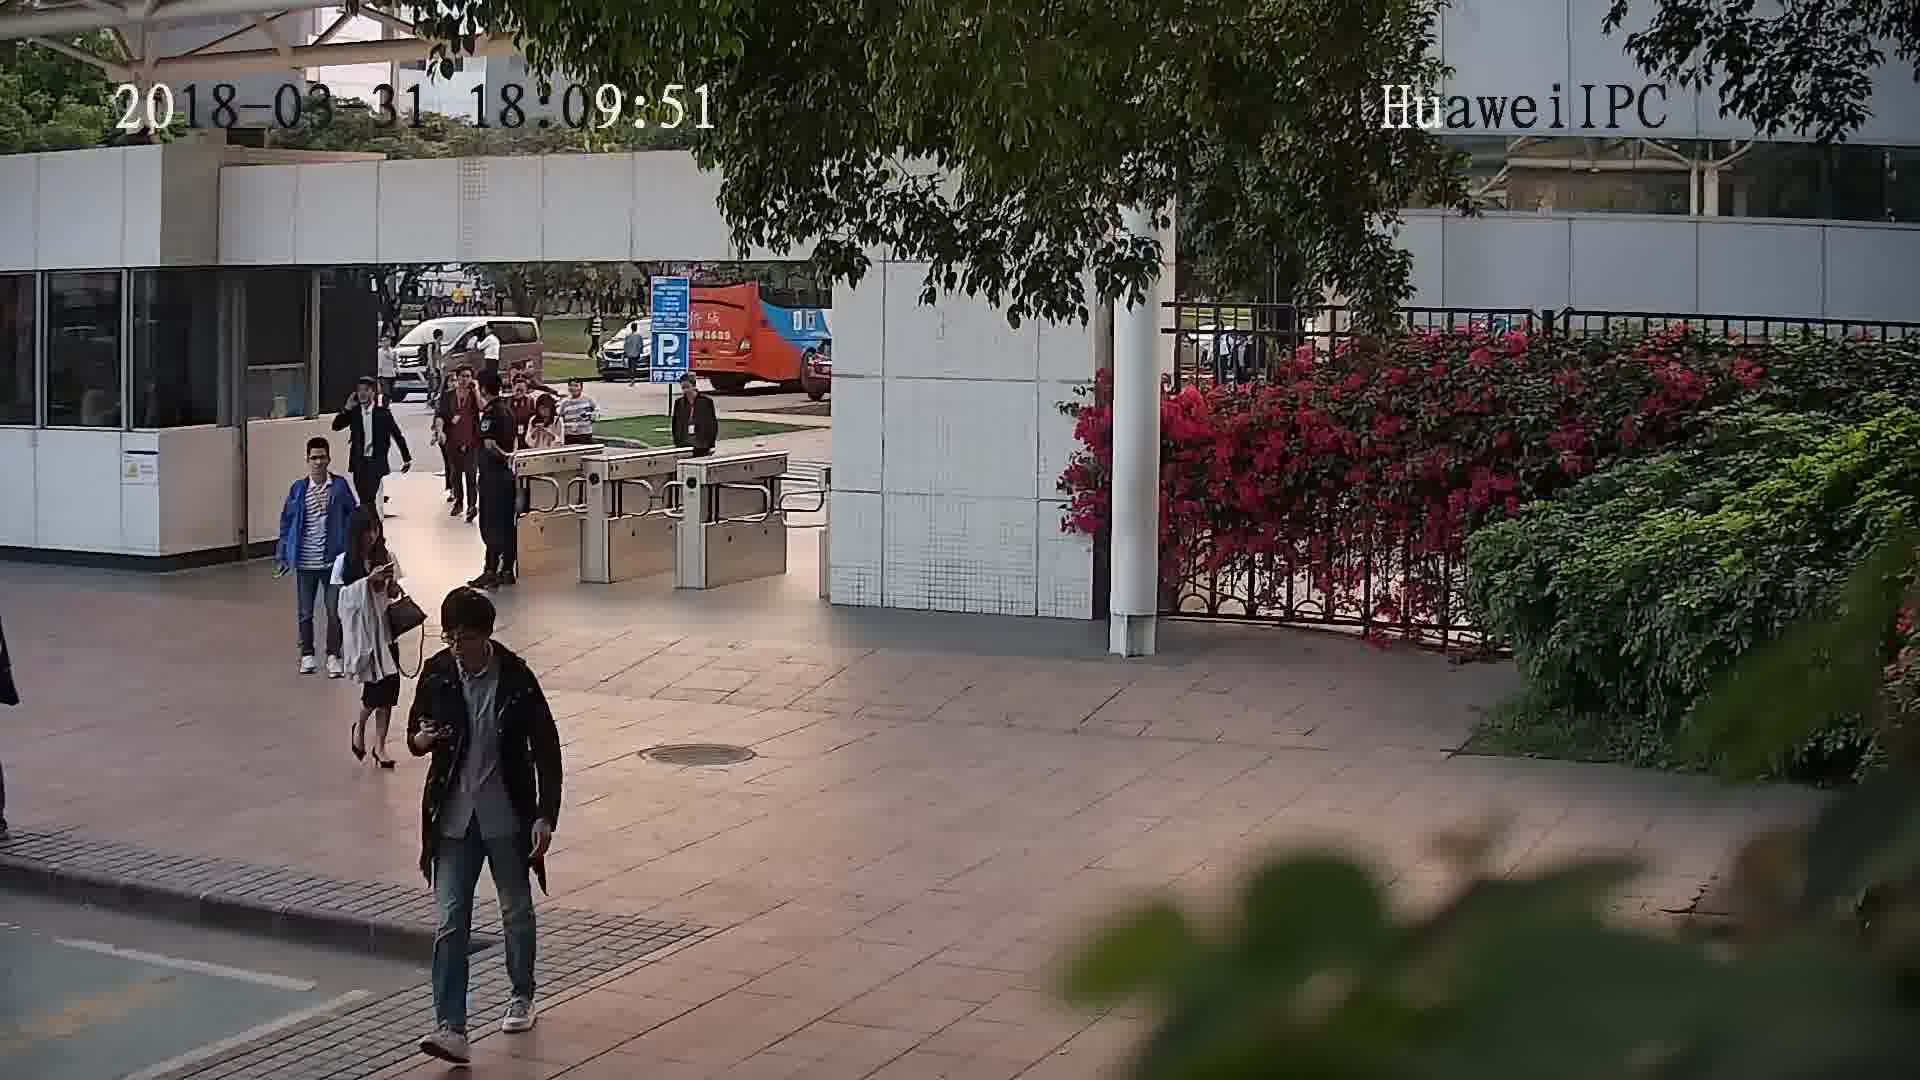face: (304, 442, 337, 487), (448, 625, 484, 661)
person: (416, 582, 542, 705), (286, 434, 349, 499), (334, 506, 392, 569), (338, 375, 395, 425), (473, 369, 515, 426), (442, 360, 481, 410), (518, 388, 560, 433), (672, 371, 714, 411), (556, 374, 590, 408), (418, 330, 447, 356), (479, 320, 503, 348), (376, 332, 398, 358), (624, 321, 649, 341)
